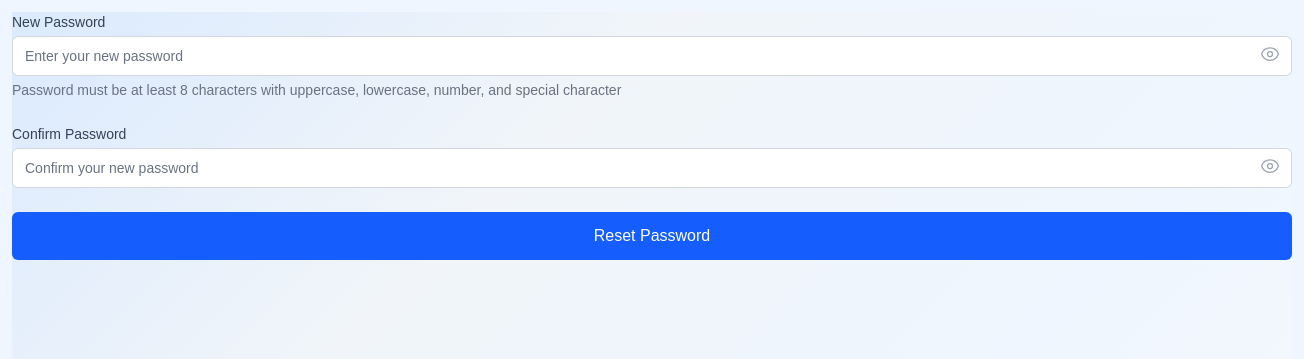
Test: PasswordResetForm › shows validation error for weak password
Step 1. Type "short" into the password field with placeholder "Enter your new password" → (652, 56), box [12,36,1292,76]
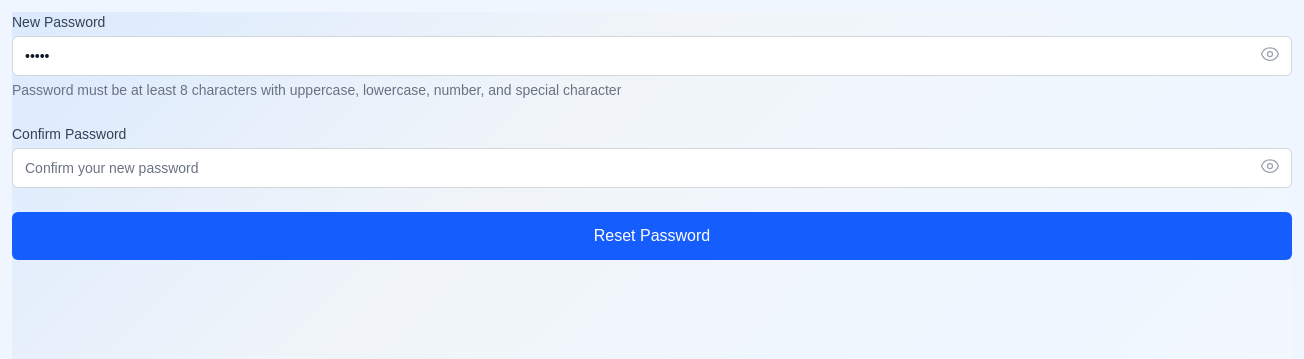
Step 2. Type "short" into the password field with placeholder "Confirm your new password" → (652, 168), box [12,148,1292,188]
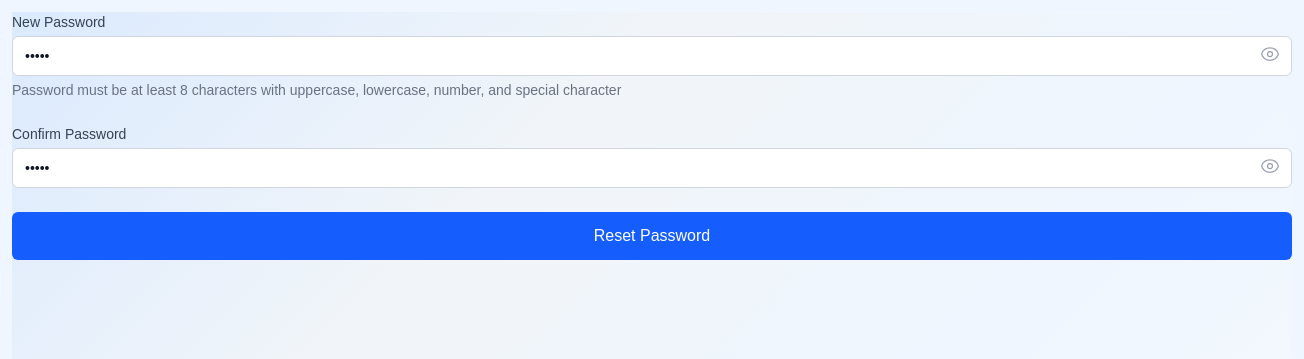
Step 3. Click the button "Reset Password" → (652, 236), box [12,212,1292,260]
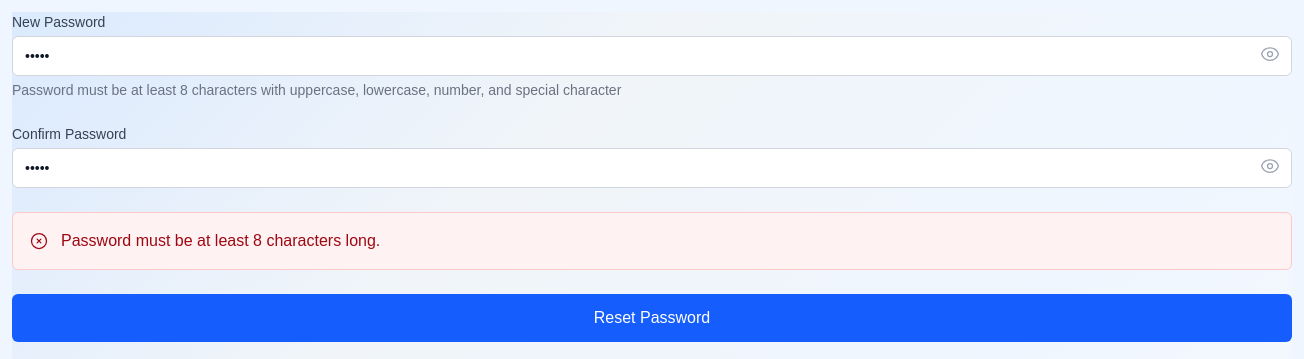
Expected: the text "Password must be at least 8 characters long." is shown, [61,232,380,249]
